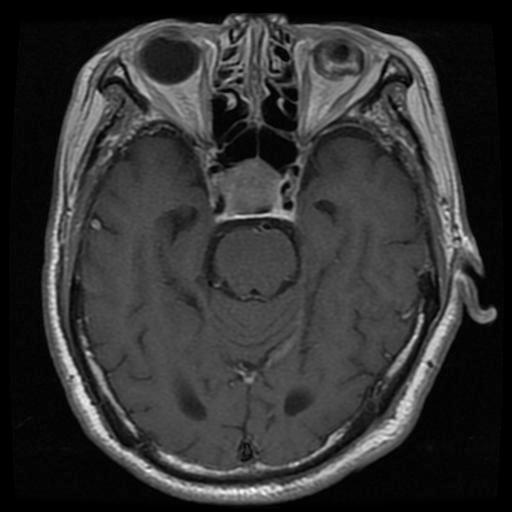Tumour-Pituitary: (206, 165, 305, 223)
